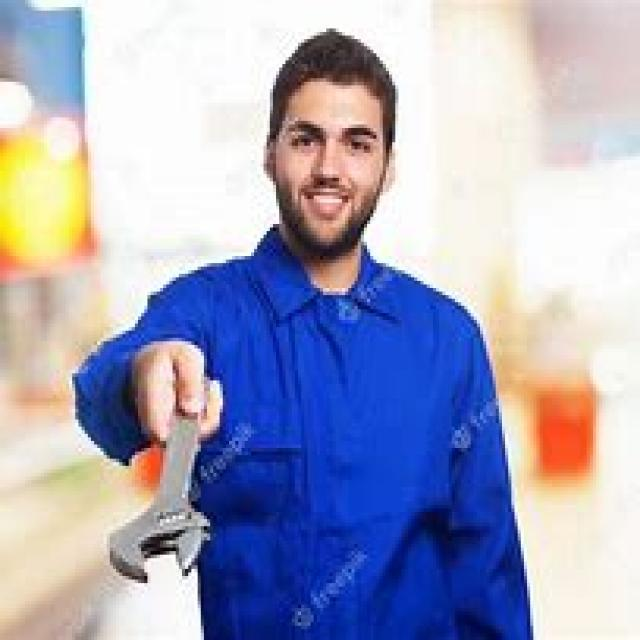wrench: (103, 374, 215, 588)
